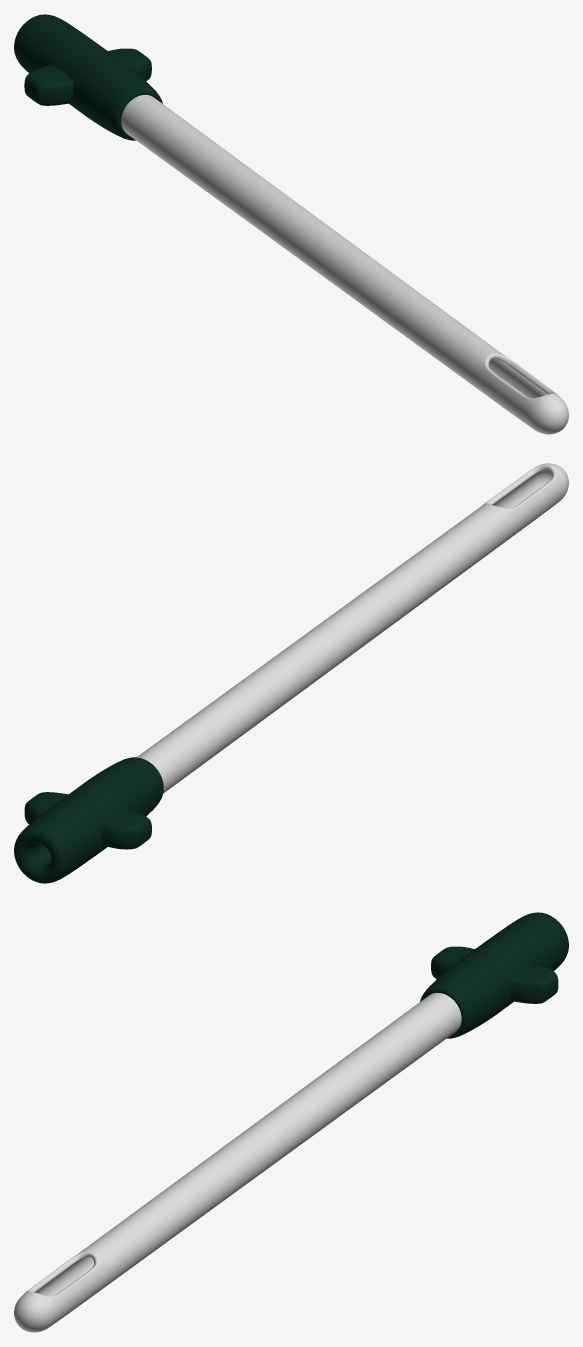
The model's file is curette.glb.
3 views of the same model, one above another, from view 1: azimuth 30°, elevation 25°; view 2: azimuth 150°, elevation 25°; view 3: azimuth 330°, elevation 25° (orthographic).
Visible parts, largest first — view 1: curette; view 2: curette; view 3: curette.
Part boxes in pixels (x1=…): curette: x1=14, y1=14, x2=568, y2=434; curette: x1=14, y1=463, x2=568, y2=883; curette: x1=14, y1=912, x2=568, y2=1332.
Size of the model in its own units: 0.0277 by 0.0136 by 0.218.
